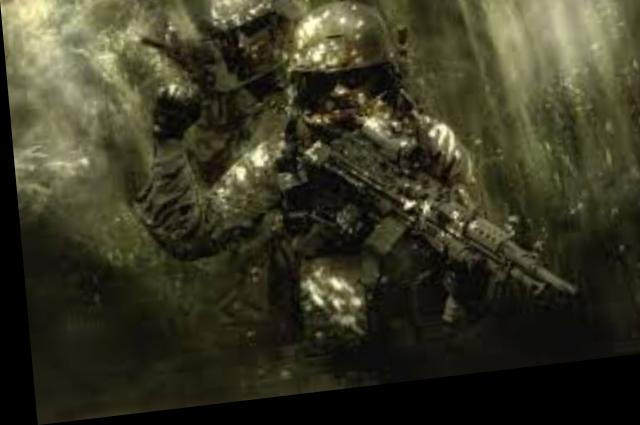other: (162, 12, 461, 376)
